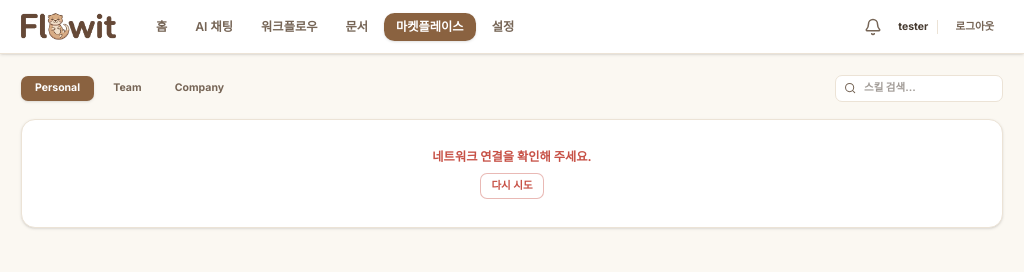
Test: MarketplacePage — 실 API 연동(Flowit) › 네트워크 에러 시 메시지 + 재시도로 다시 조회한다
The width and height of the screenshot is (1024, 272).
Expected: the text "네트워크 연결을 확인해 주세요." is shown, 432,148 -> 592,166
Click the button "다시 시도" at x=512, y=186, box 480,172 -> 544,199
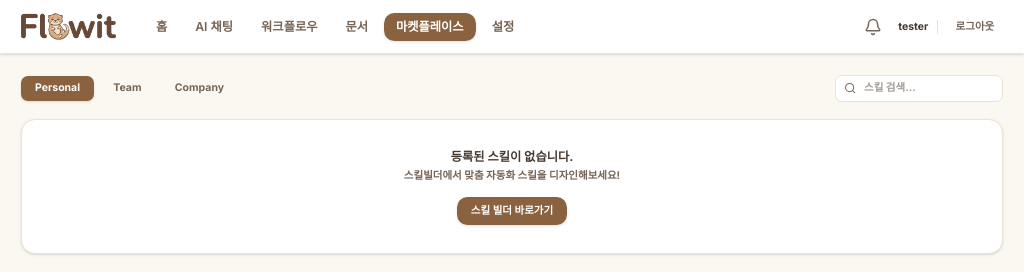
Expected: the text "등록된 스킬이 없습니다." is shown, 451,149 -> 573,164
